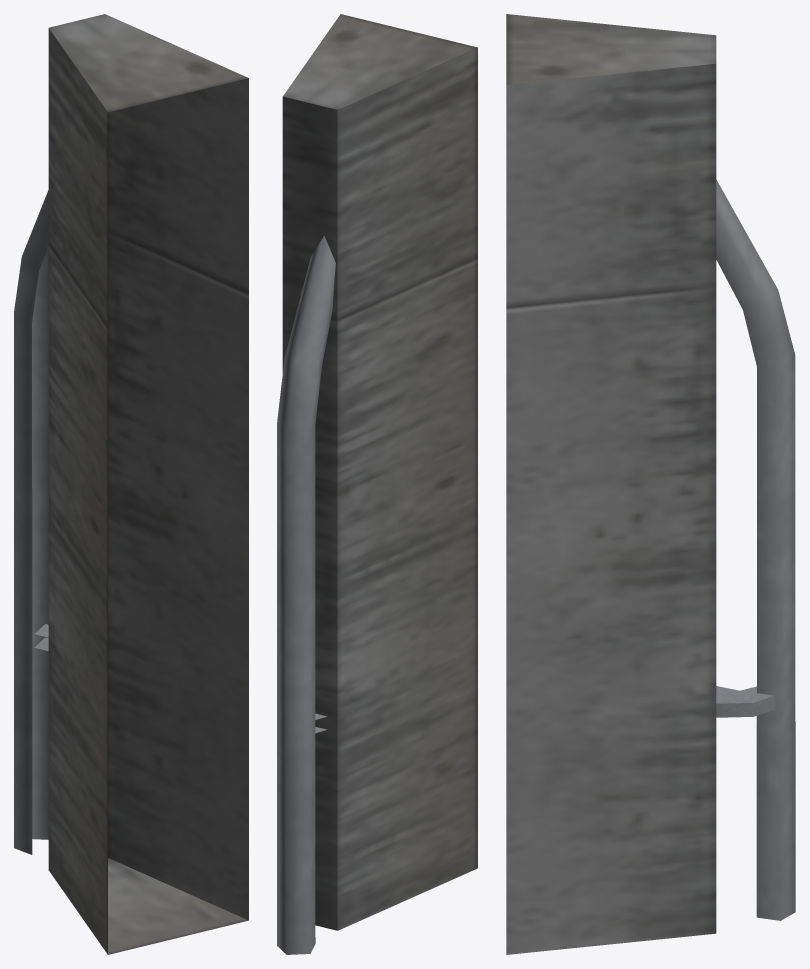
Rendered from cpb-end-1_lod.fbx.
3 renders of one model, left to right at view 1: azimuth 30°, elevation 25°; view 2: azimuth 150°, elevation 25°; view 3: azimuth 270°, elevation 25°, orthographic. The views are drawn at different scales.
Parts seen in each view (by area): view 1: cpb-end-1-lod; view 2: cpb-end-1-lod; view 3: cpb-end-1-lod.
Part boxes in pixels (box(x1,y1,x2,y2)): cpb-end-1-lod: box(14, 14, 248, 954); cpb-end-1-lod: box(277, 14, 477, 954); cpb-end-1-lod: box(506, 14, 795, 954).
Size of the model in its own units: 70 by 400 by 121.
